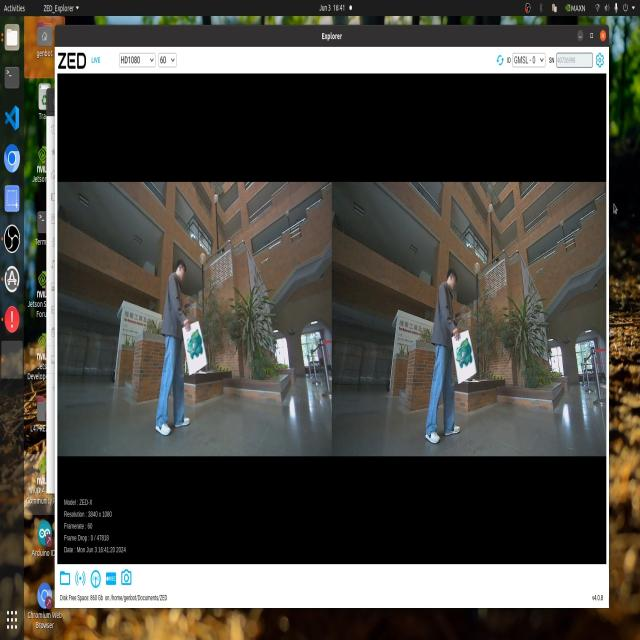green: (178, 321, 215, 363), (452, 334, 473, 371)
